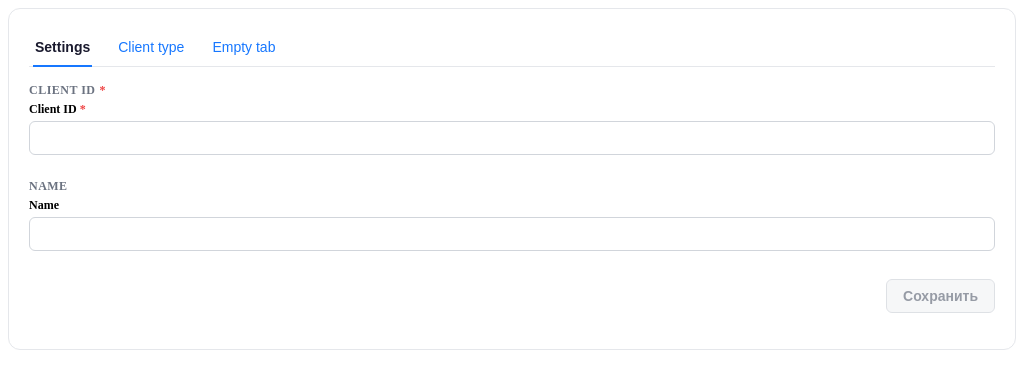
Test case: TabbedForm — базовый рендер › переключение вкладки показывает поля другого tab'а
Expected: the element that starts with "Settings" shows "Client ID", [29, 83, 96, 97]
Expected: the text "Public client" is not shown
// Click Client type
What coordinates should you click on to do the following:
click the tab "Client type"
I would click on:
 (151, 48)
Its box is [116, 29, 186, 67].
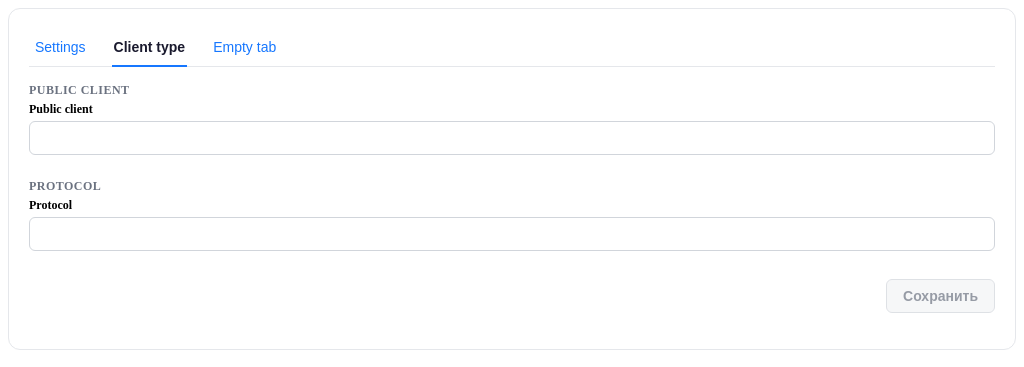
Expected: the element that starts with "Settings" shows "Public client", [29, 83, 130, 97]
Expected: the element that starts with "Settings" shows "Protocol", [29, 179, 101, 193]
Expected: the label no longer shows "Client ID"
